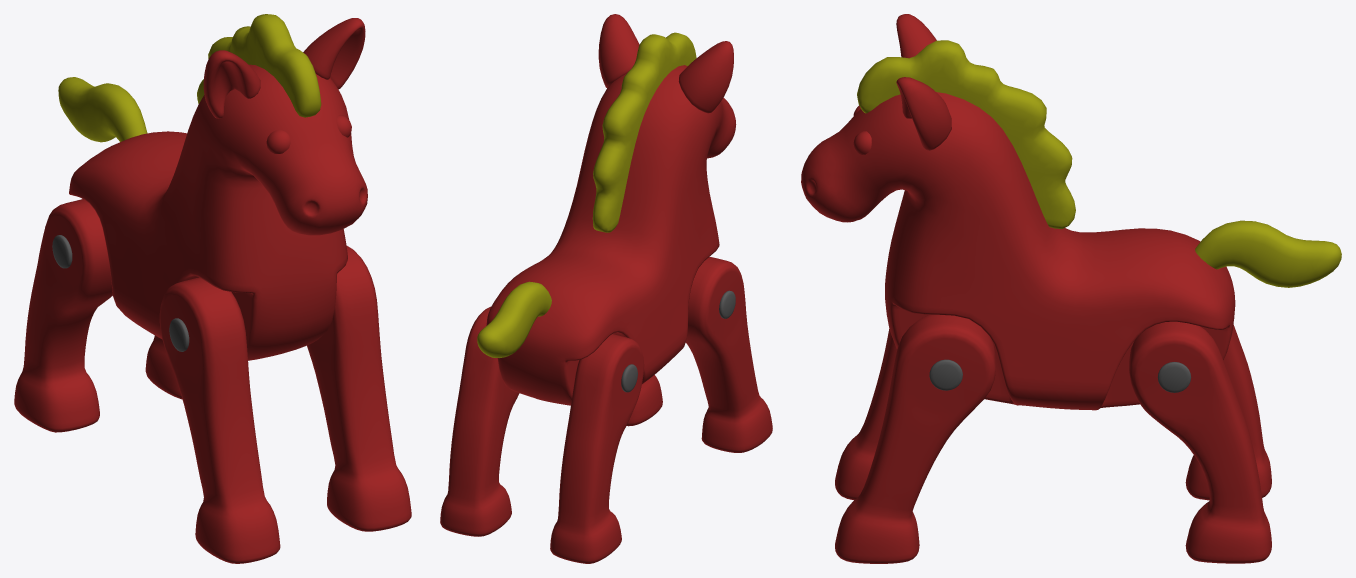
Rendered from SM_horse.fbx.
3 renders of one model, left to right at view 1: azimuth 30°, elevation 25°; view 2: azimuth 150°, elevation 25°; view 3: azimuth 270°, elevation 25°, orthographic. The views are drawn at different scales.
Visible parts, largest first — view 1: SM_horse_body, SM_horse_leg_LF, SM_horse_leg_RF, SM_horse_leg_LB, SM_horse_hair, SM_horse_leg_RB, SM_horse_bolt; view 2: SM_horse_body, SM_horse_leg_LB, SM_horse_leg_LF, SM_horse_hair, SM_horse_leg_RB, SM_horse_leg_RF, SM_horse_bolt; view 3: SM_horse_body, SM_horse_leg_RF, SM_horse_hair, SM_horse_leg_RB, SM_horse_leg_LF, SM_horse_leg_LB, SM_horse_bolt.
Boxes of the visible parts, bbox=[...] form: SM_horse_body: bbox=[69, 18, 367, 360]; SM_horse_leg_LF: bbox=[159, 277, 280, 563]; SM_horse_leg_RF: bbox=[307, 246, 411, 531]; SM_horse_leg_LB: bbox=[14, 199, 112, 432]; SM_horse_hair: bbox=[58, 14, 321, 142]; SM_horse_leg_RB: bbox=[145, 335, 182, 399]; SM_horse_bolt: bbox=[52, 235, 189, 351]; SM_horse_body: bbox=[486, 14, 736, 405]; SM_horse_leg_LB: bbox=[550, 334, 644, 563]; SM_horse_leg_LF: bbox=[685, 257, 772, 452]; SM_horse_hair: bbox=[477, 32, 696, 357]; SM_horse_leg_RB: bbox=[440, 306, 519, 536]; SM_horse_leg_RF: bbox=[626, 375, 662, 426]; SM_horse_bolt: bbox=[621, 290, 735, 392]; SM_horse_body: bbox=[801, 14, 1235, 410]; SM_horse_leg_RF: bbox=[835, 314, 995, 563]; SM_horse_hair: bbox=[857, 40, 1341, 287]; SM_horse_leg_RB: bbox=[1129, 321, 1271, 563]; SM_horse_leg_LF: bbox=[835, 329, 897, 499]; SM_horse_leg_LB: bbox=[1185, 324, 1271, 500]; SM_horse_bolt: bbox=[929, 359, 1191, 392].
Bounding box in the file's own units: 79.61 × 191 × 196.
